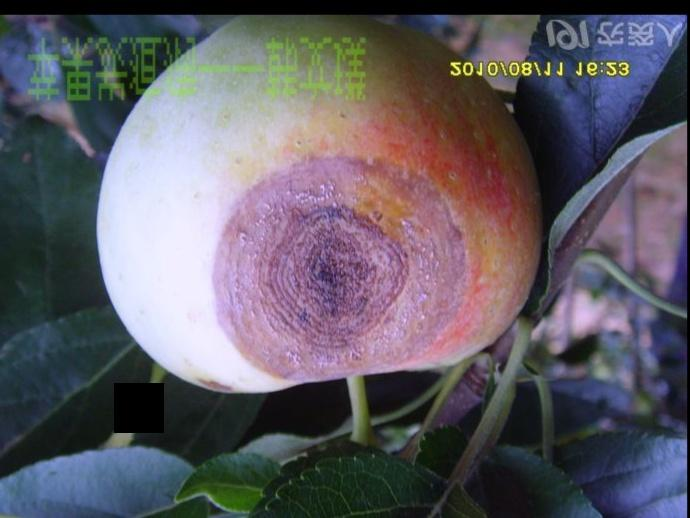rotten apple: (86, 23, 548, 398)
